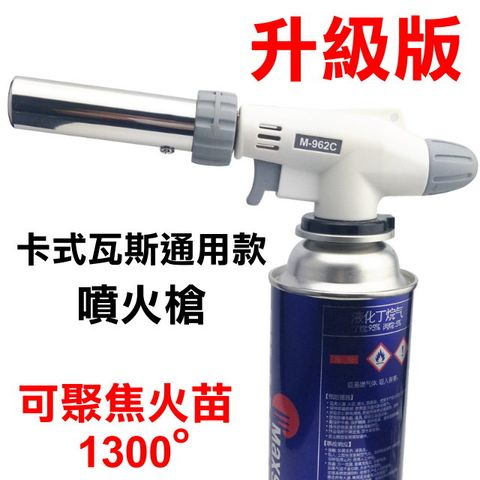gastorch: (5, 67, 479, 479)
